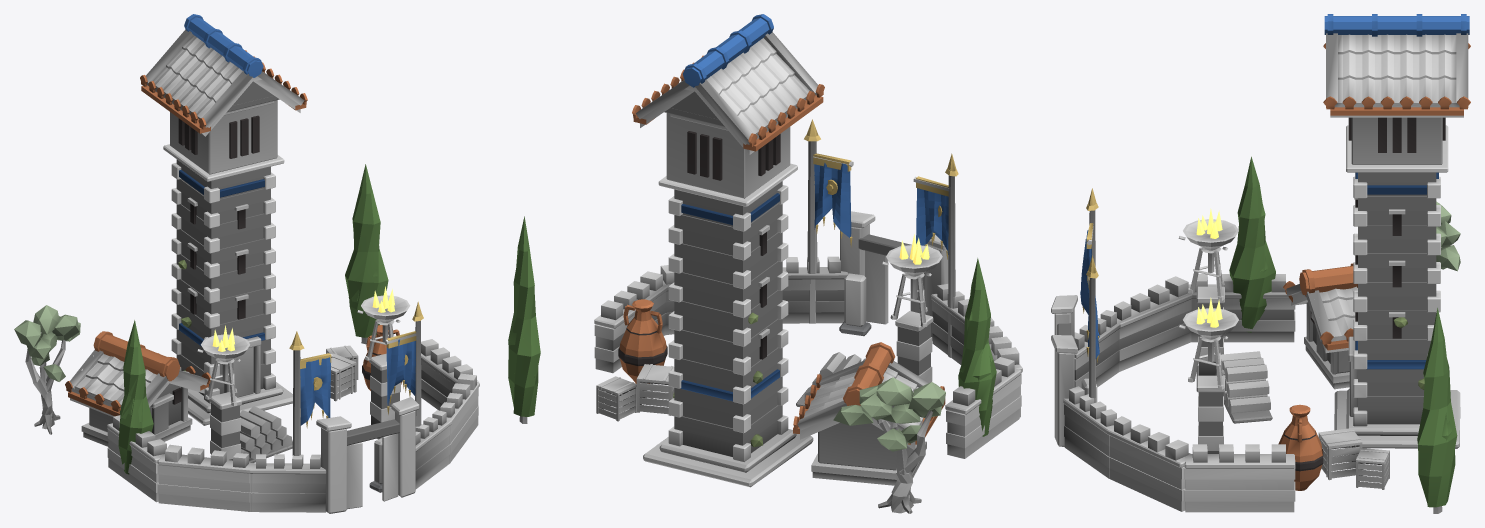
File: watchtower-l3.glb
3 renders of one model, left to right at view 1: azimuth 30°, elevation 25°; view 2: azimuth 150°, elevation 25°; view 3: azimuth 270°, elevation 25°, orthographic. The views are drawn at different scales.
Visible parts, largest first — view 1: watchtower-l3; view 2: watchtower-l3; view 3: watchtower-l3.
Boxes of the visible parts, x1,y1,x2,y2 form: watchtower-l3: (14, 14, 479, 513); watchtower-l3: (508, 14, 1022, 513); watchtower-l3: (1051, 14, 1470, 513).
Bounding box in the file's own units: 1.63 × 1.51 × 1.4.
